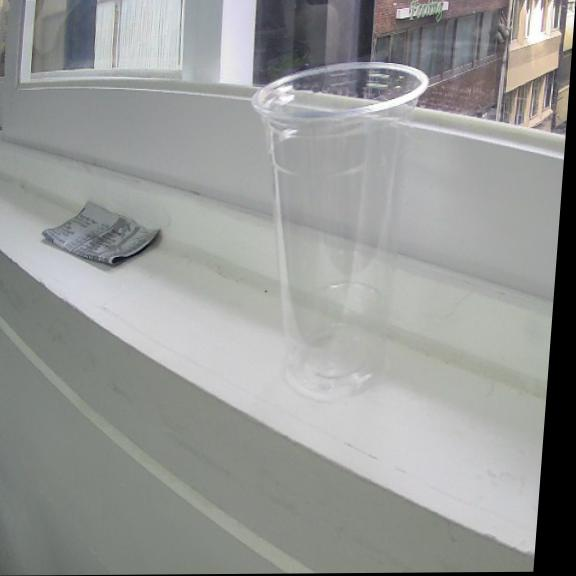Plastik: (252, 63, 428, 399)
